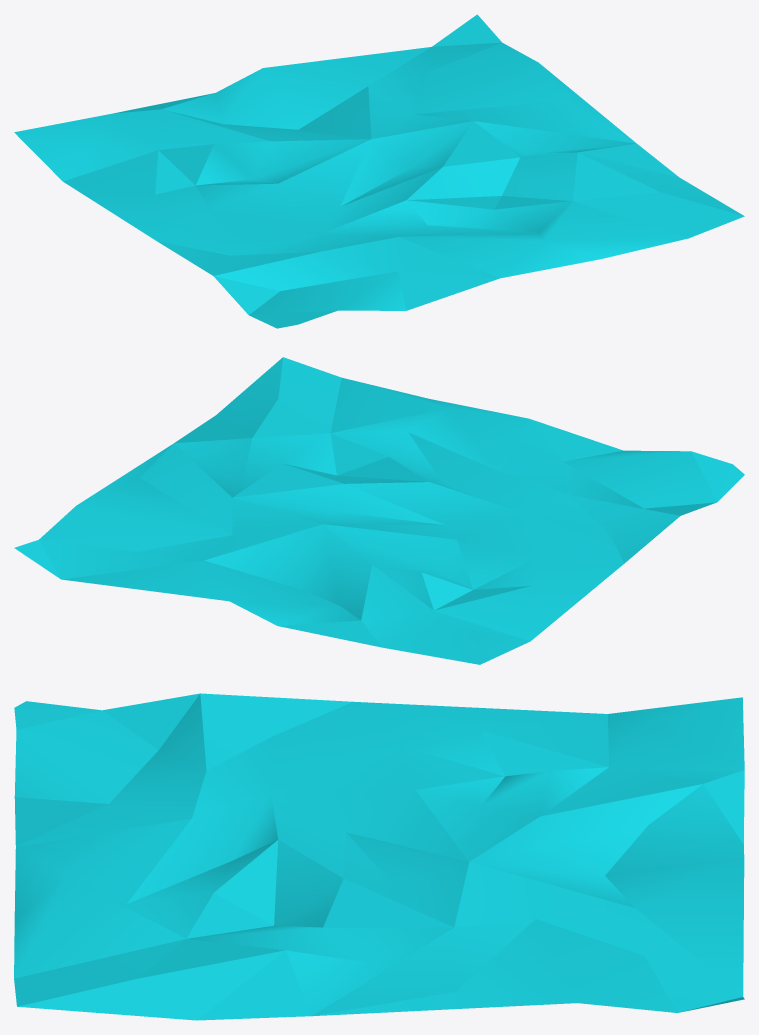
File: ice.fbx
3 renders of one model, top to bottom at view 1: azimuth 30°, elevation 25°; view 2: azimuth 150°, elevation 25°; view 3: azimuth 270°, elevation 25°, orthographic. The views are drawn at different scales.
Parts seen in each view (by area): view 1: ice; view 2: ice; view 3: ice.
Part boxes in pixels (x1,y1,x2,y2): ice: [14, 14, 744, 328]; ice: [14, 357, 744, 664]; ice: [14, 693, 744, 1020].
Size of the model in its own units: 638 by 34.22 by 639.
